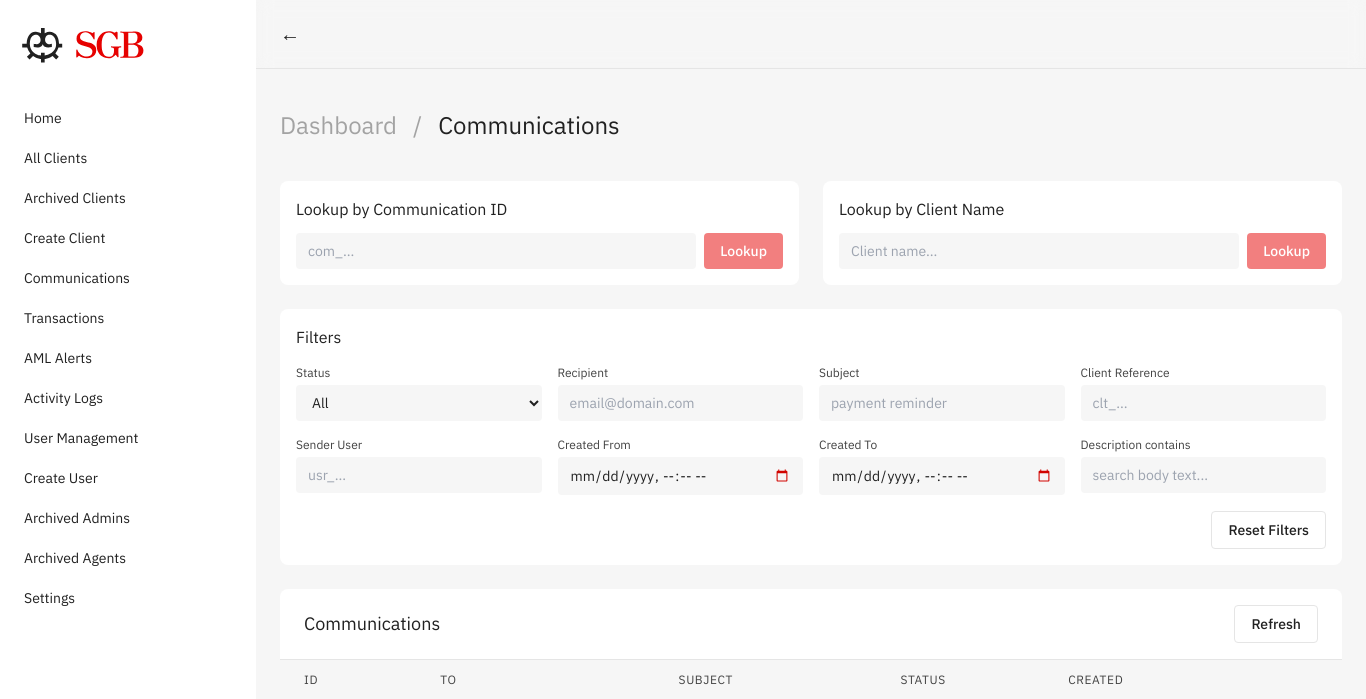
it: AdminCommunications behavior › looks up by communication id and renders detailed fields
Expected: the heading "Lookup by Communication ID" is shown, [296,199,507,219]
Type "  com_1  " into the field with placeholder "com_...".
click(496, 251); type("  com_1  ")  # box [296,233,696,269]
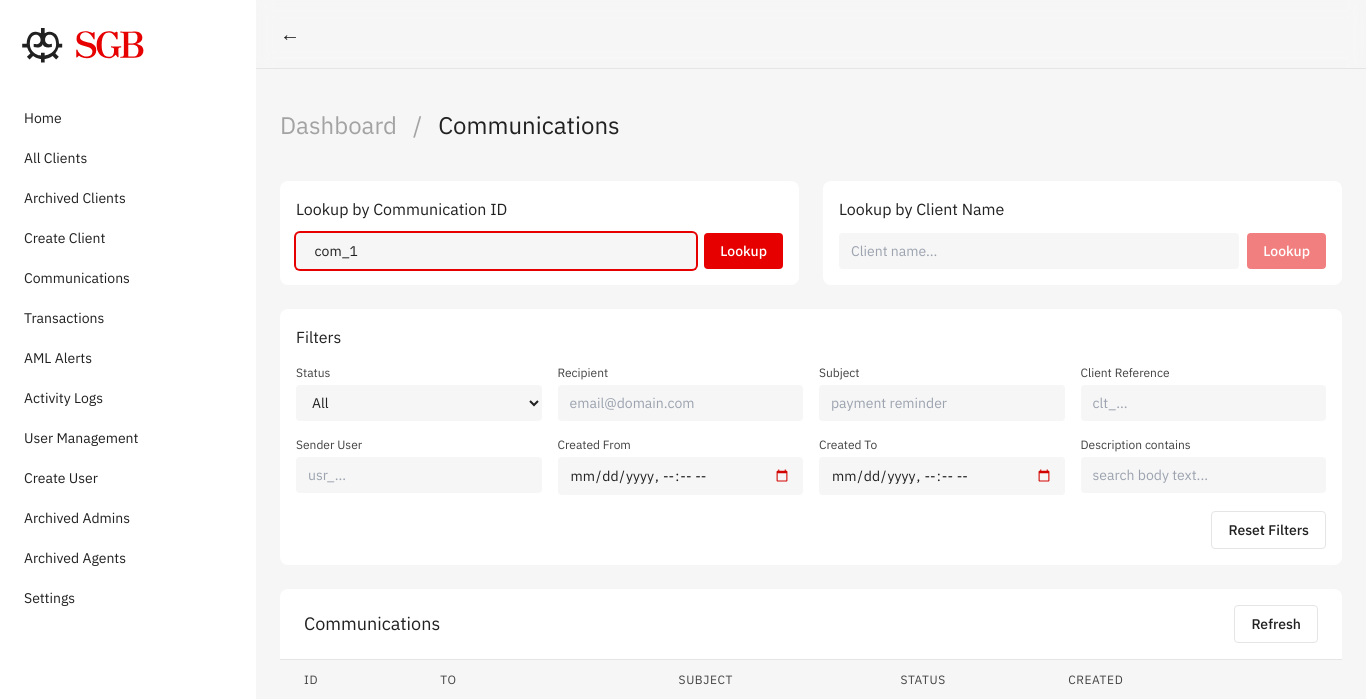
Click the button "Lookup" below "Lookup by Communication ID".
click(744, 251)  # box [704,233,783,269]
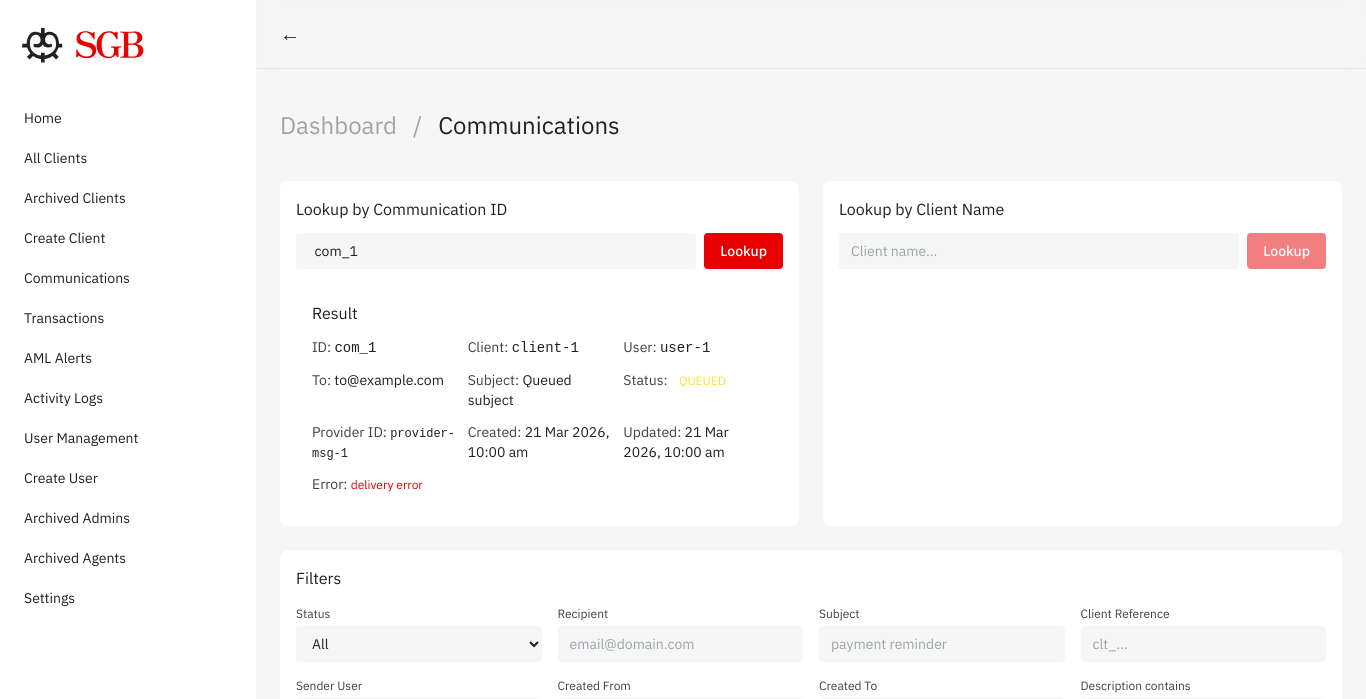
Now the text "Provider ID:" is shown, box [312,423,387,441]
Now the text "Error:" is shown, box [312,475,347,493]
